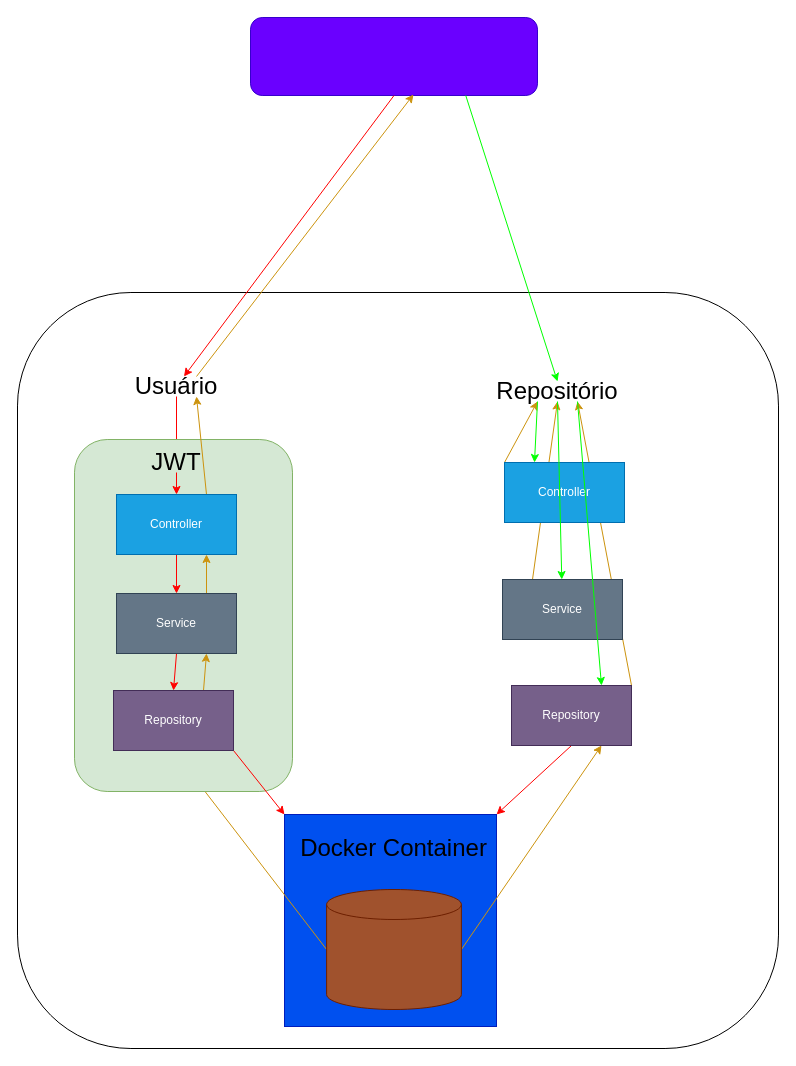
This 796x1066 diagram has some shape labels left out. The shapes that lost their labels are listed below. From the top down, each one's centre as x and y in pixels, then its label:
At (x=394, y=56): "Client".
At (x=393, y=949): "MONGODB".
